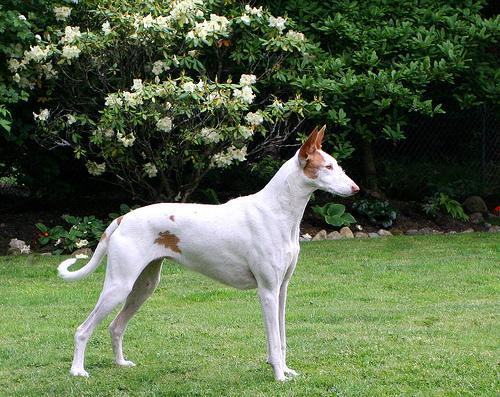Ibizan_hound: (58, 125, 361, 382)
